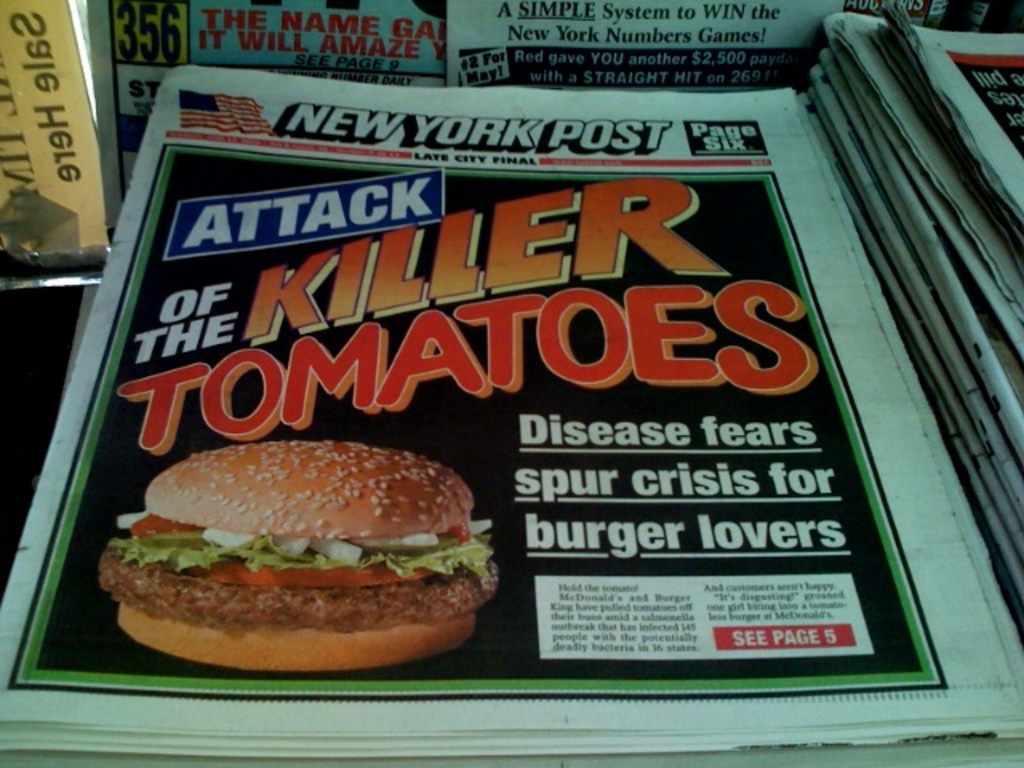Hamburger: (96, 436, 496, 675)
